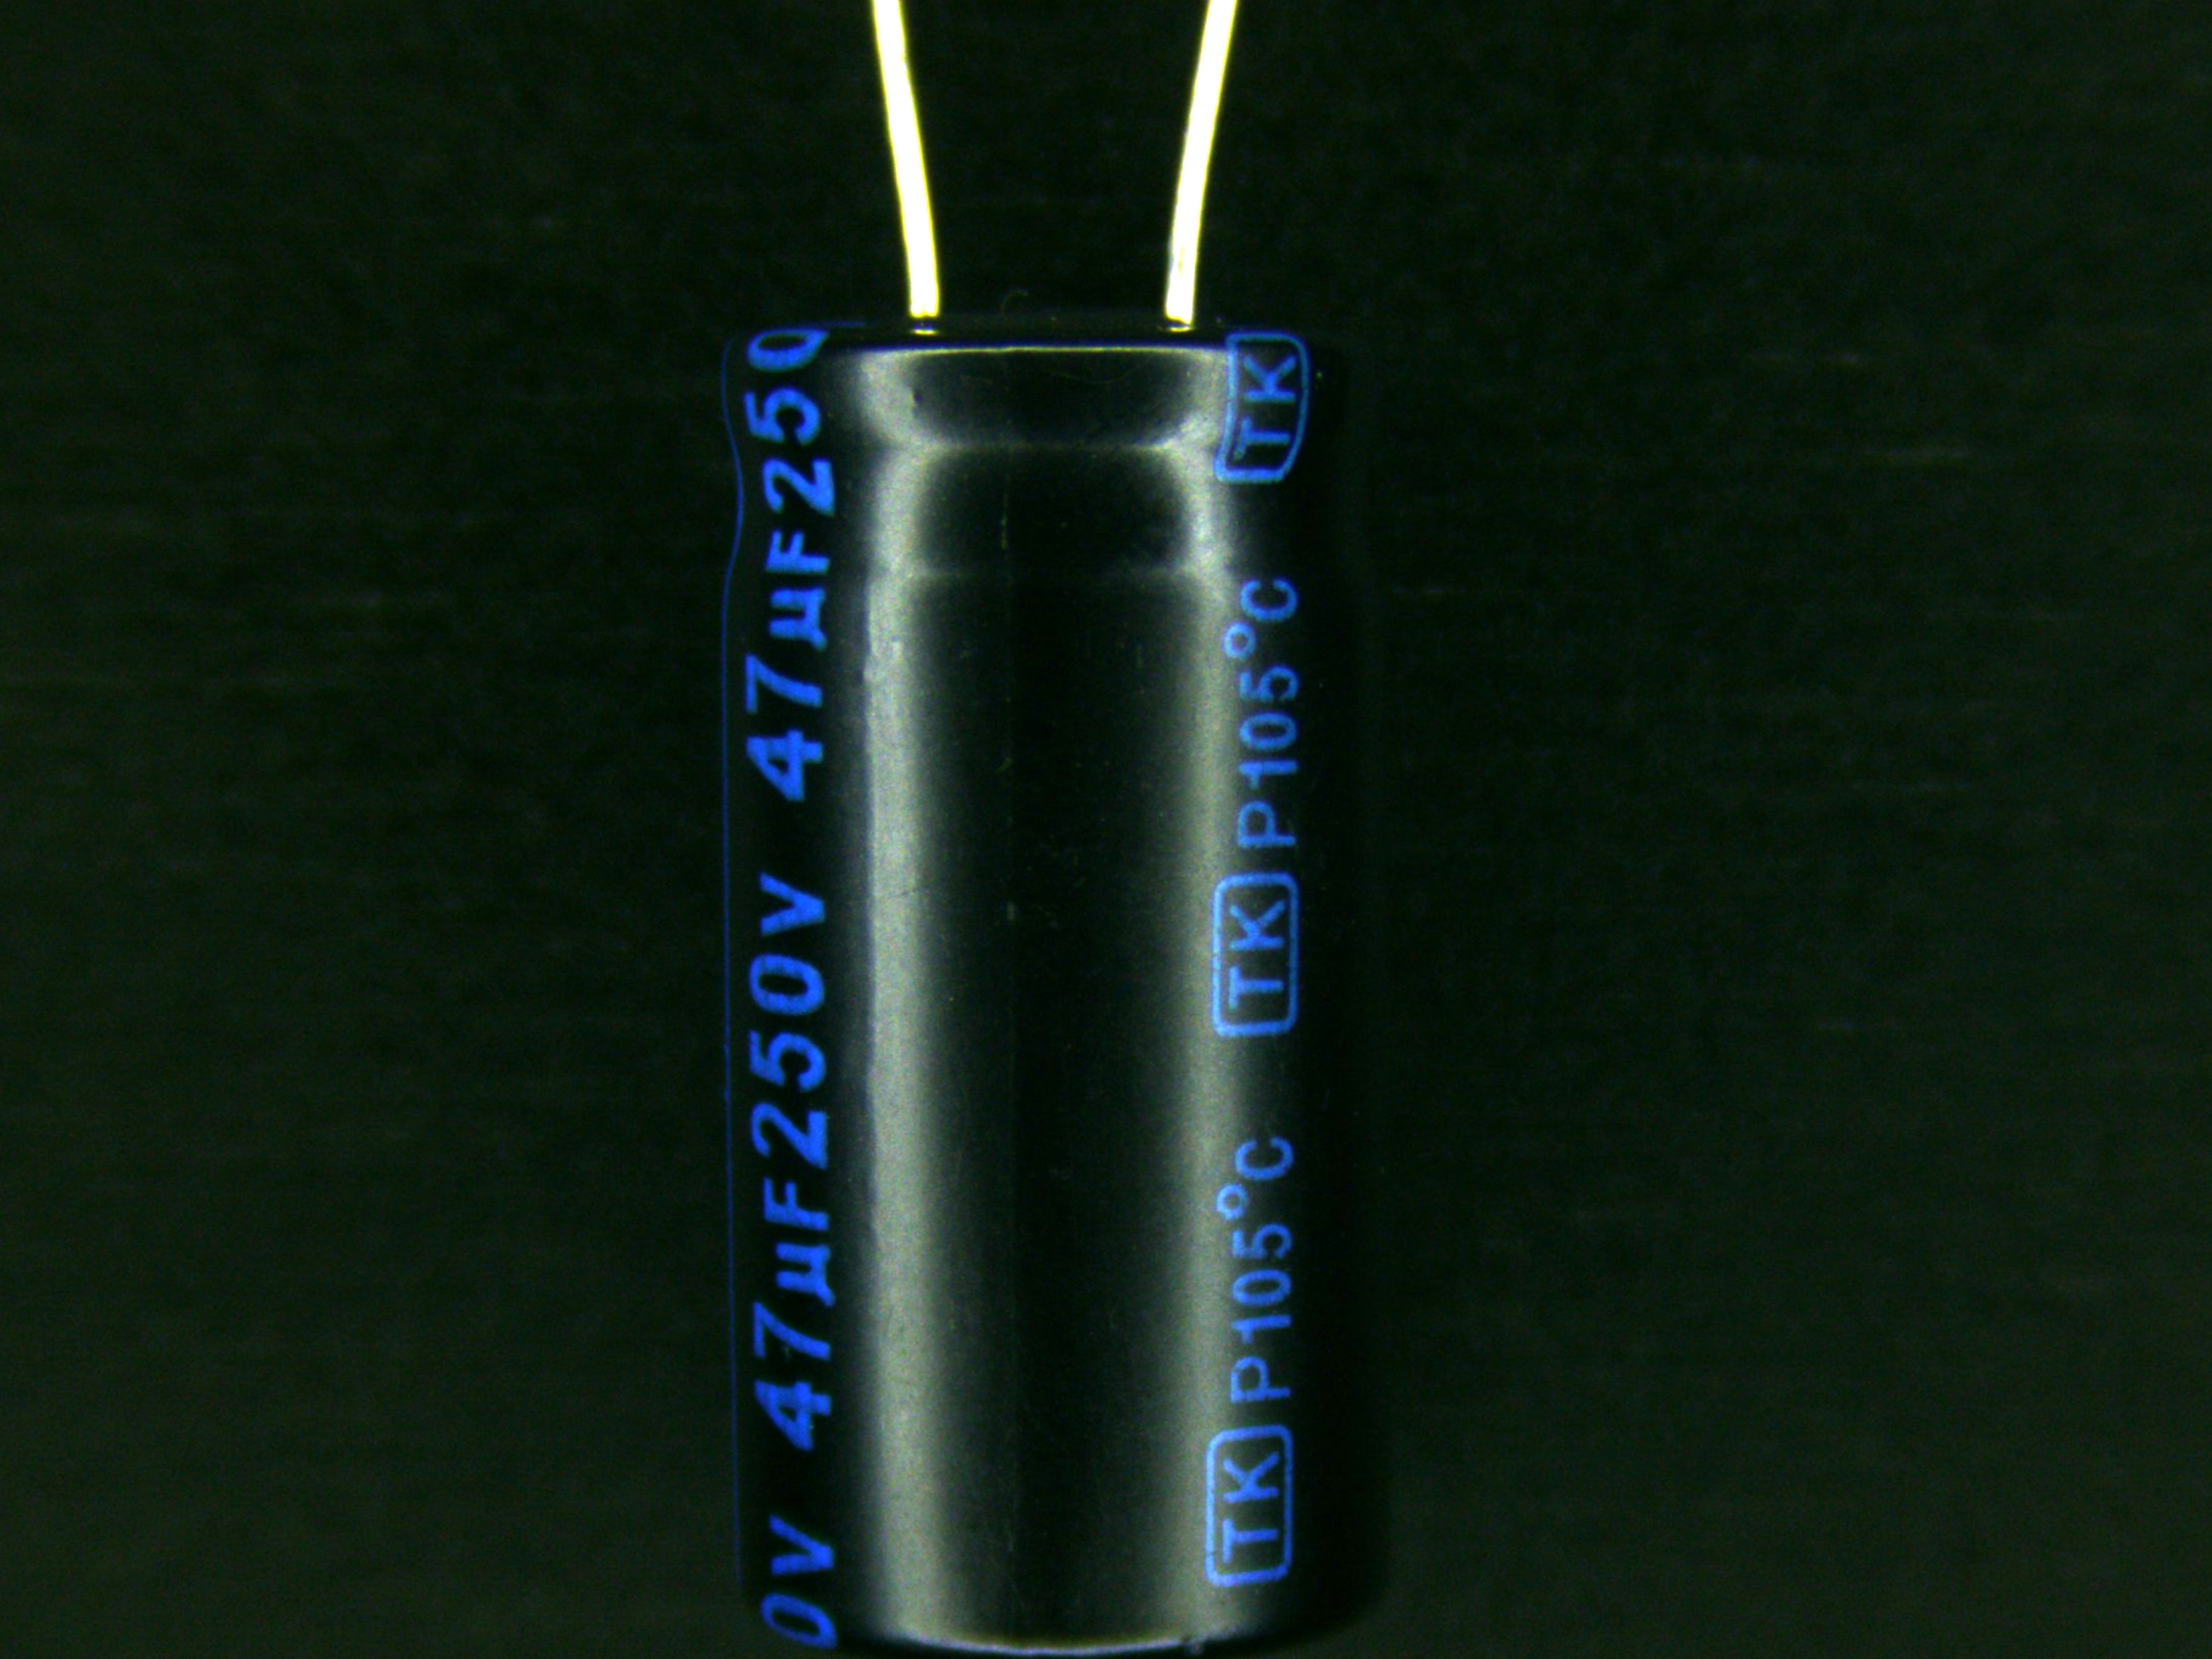c2: (714, 176, 1393, 1659)
